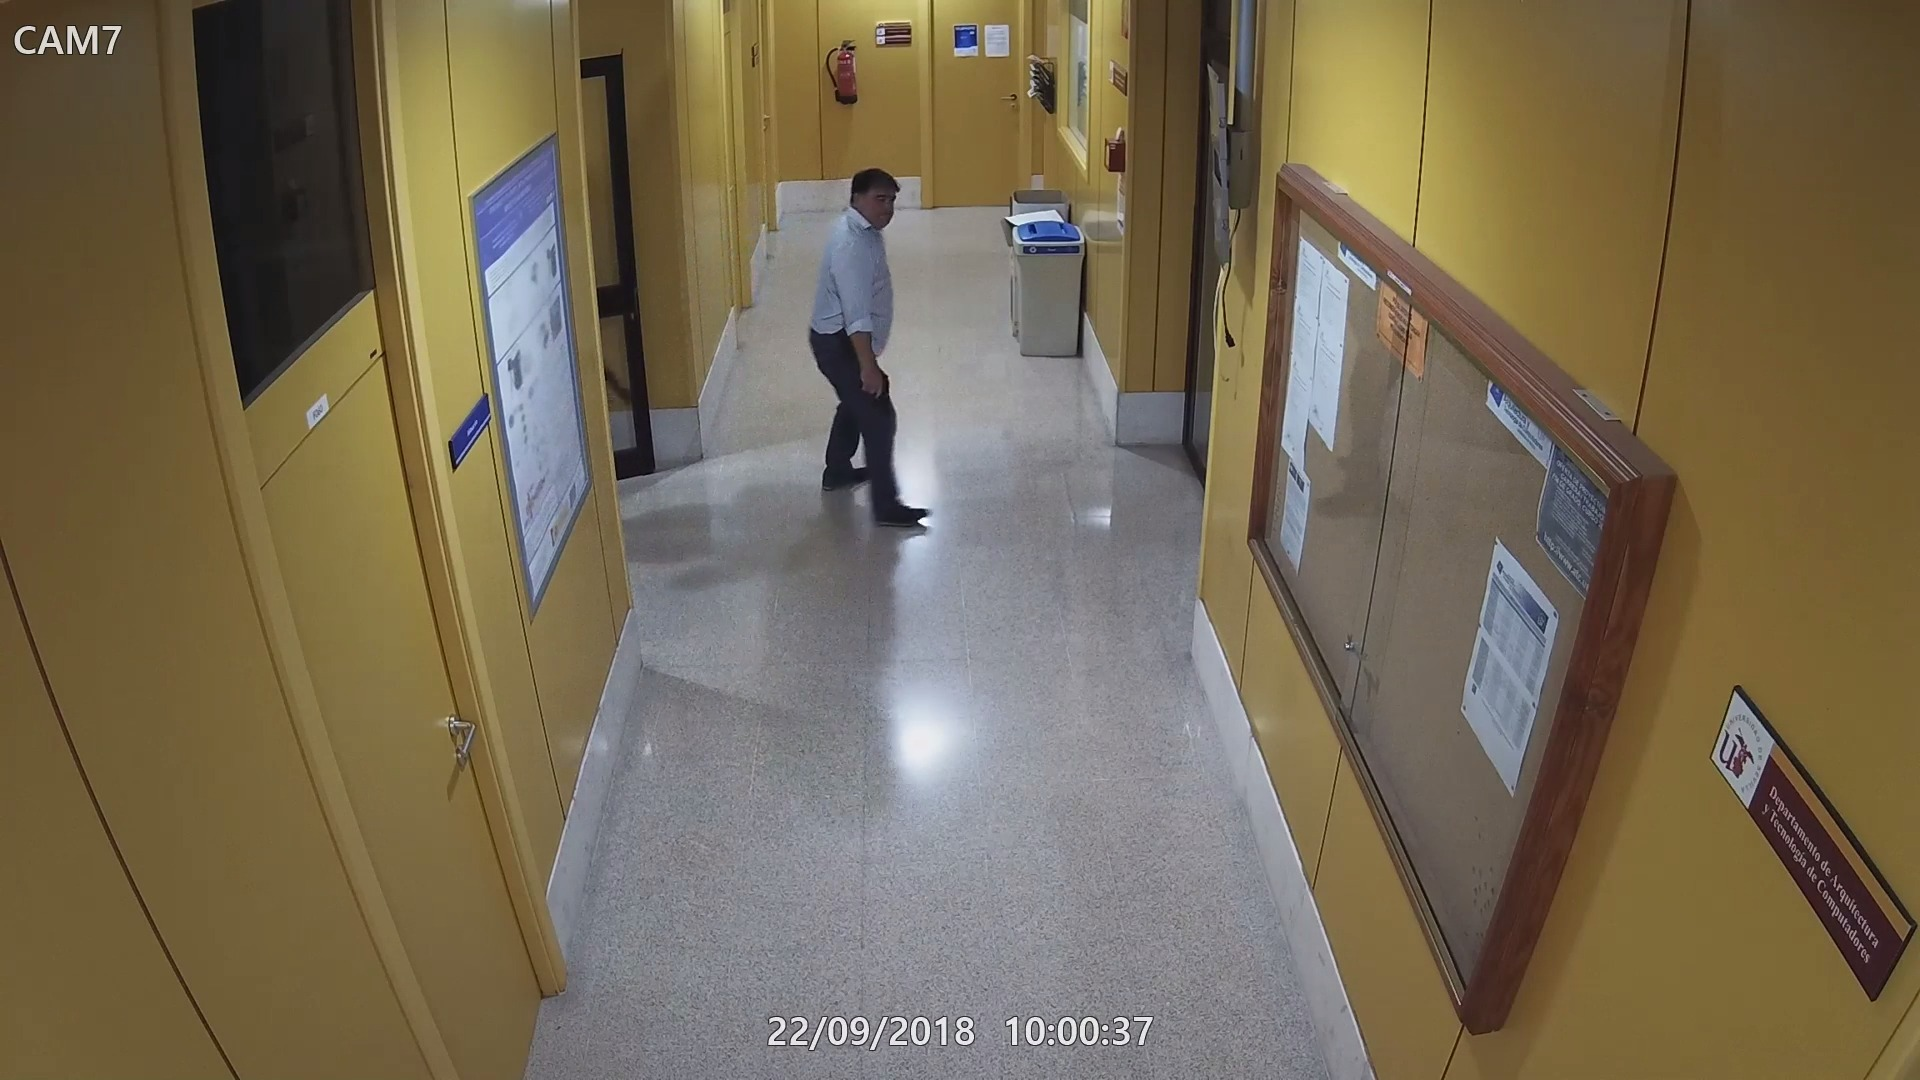Handgun: (855, 357, 890, 415)
